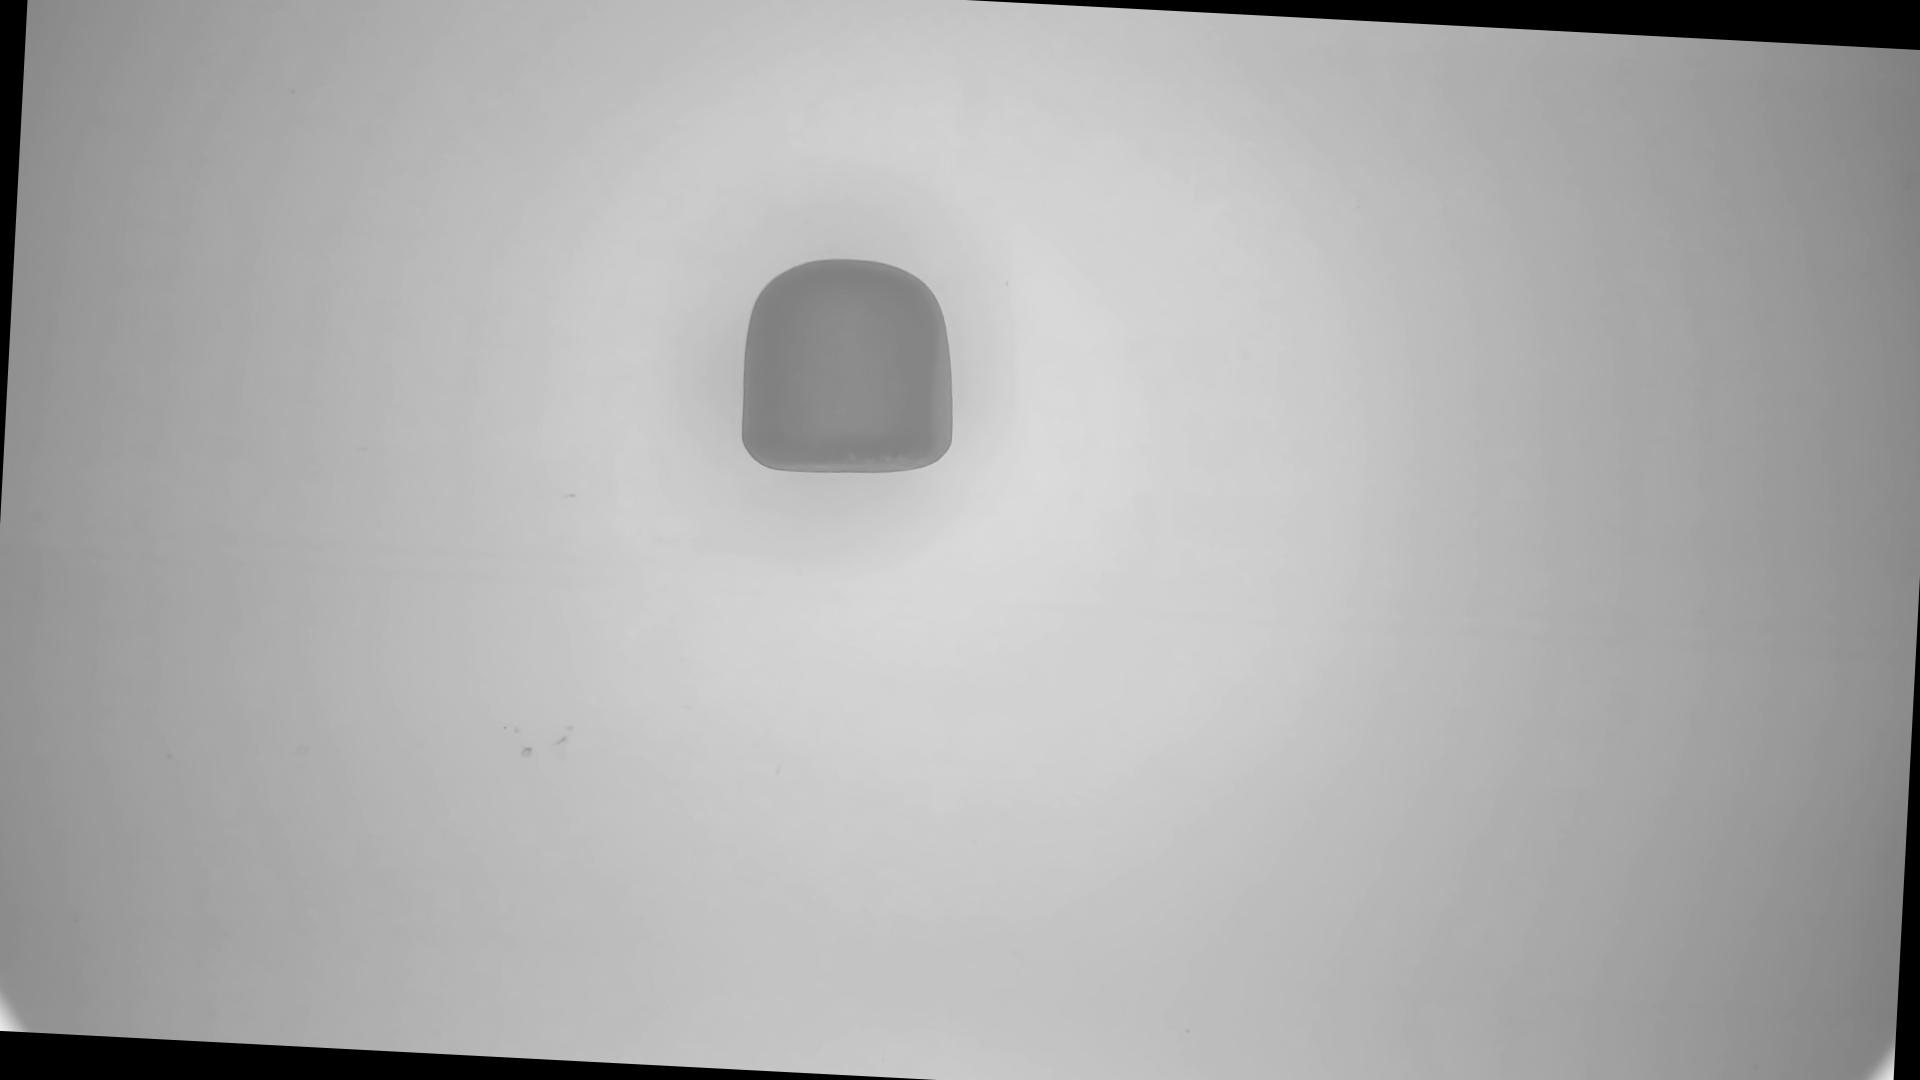normal: (736, 253, 967, 487)
